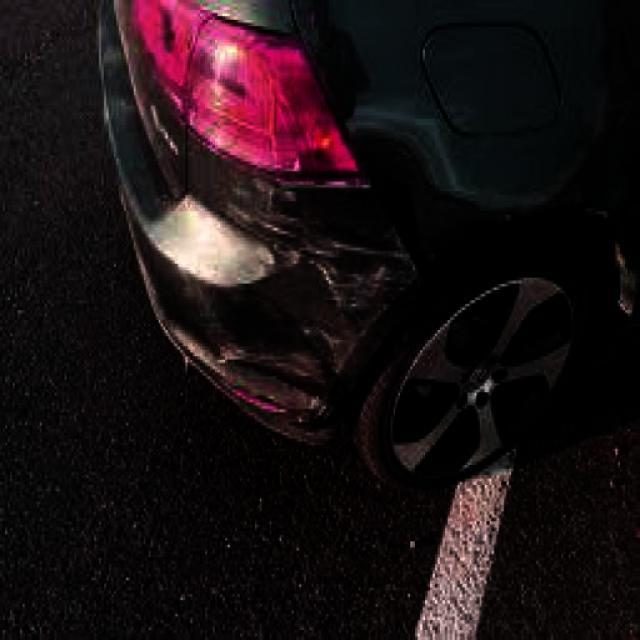car damage: (215, 142, 426, 441)
